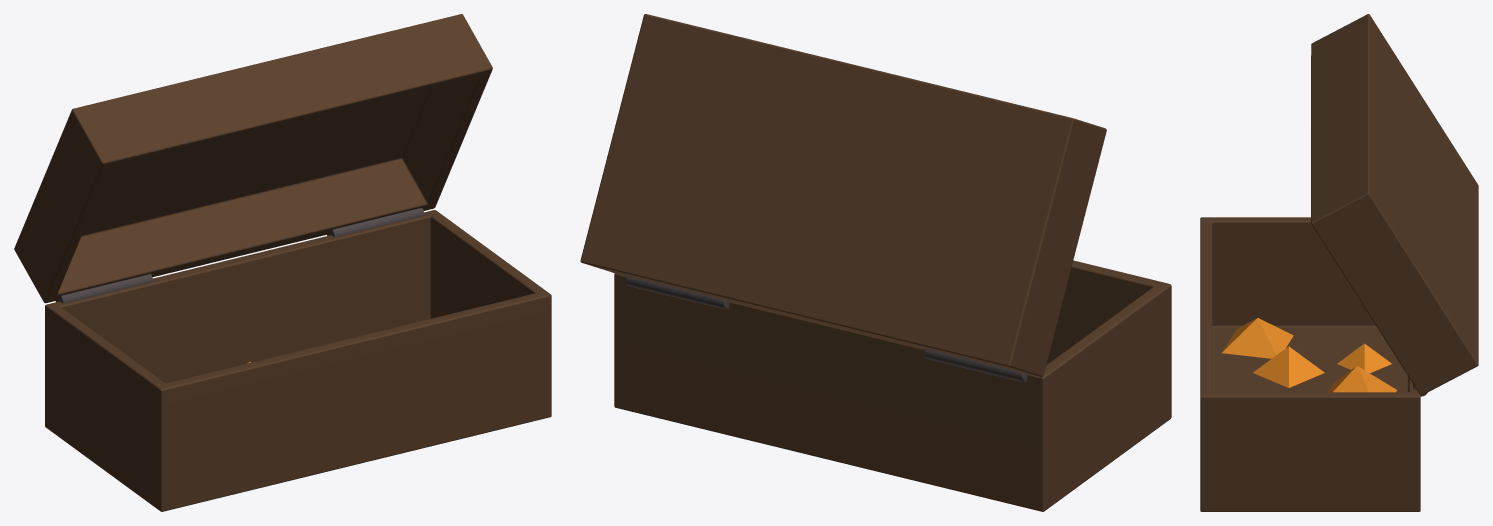
The model's file is meshTags.glb.
3 views of the same model, side by side, from view 1: azimuth 30°, elevation 25°; view 2: azimuth 150°, elevation 25°; view 3: azimuth 270°, elevation 25° (orthographic). The views are drawn at different scales.
Visible parts, largest first — view 1: base, lid, hinge; view 2: lid, base, hinge; view 3: base, lid, content.
Boxes of the visible parts, <box> form: base: <box>45,210,551,511</box>; lid: <box>14,14,492,303</box>; hinge: <box>55,208,424,303</box>; lid: <box>580,14,1106,377</box>; base: <box>614,260,1171,511</box>; hinge: <box>625,276,1027,382</box>; base: <box>1200,217,1420,511</box>; lid: <box>1311,14,1478,395</box>; content: <box>1222,318,1396,392</box>.
Bounding box in the file's own units: 2.16 × 1.79 × 1.41.
